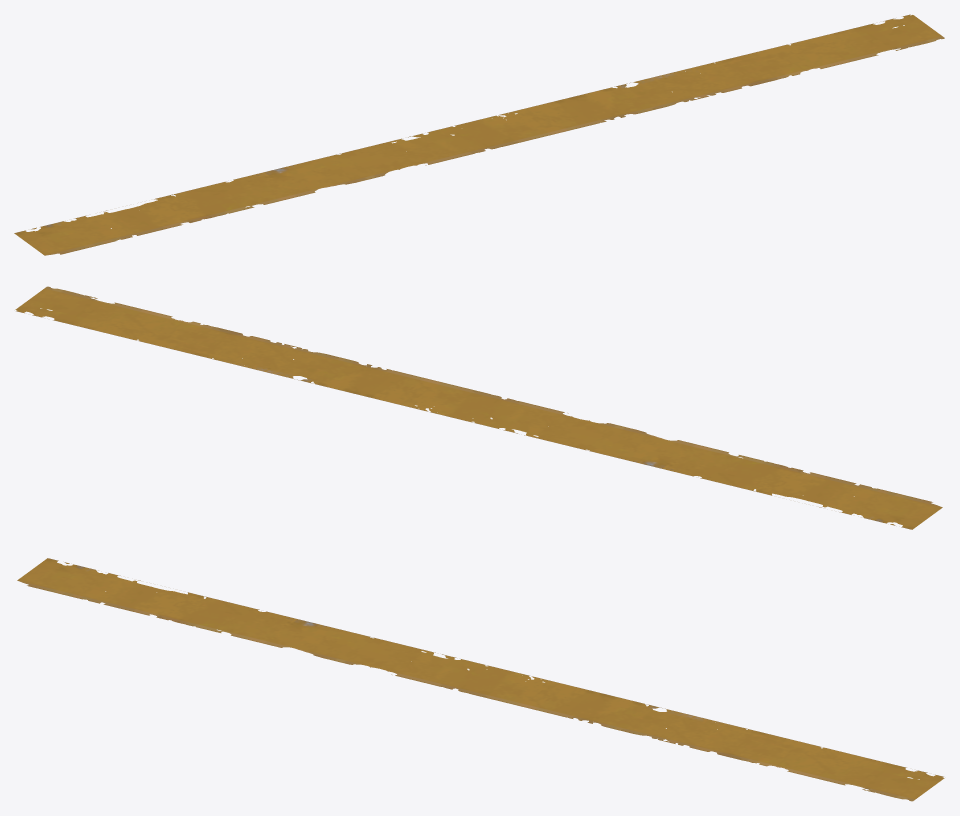
The model's file is SM_Stripe_Floor_01h.glb.
The picture shows the model from 3 angles, top to bottom: view 1: azimuth 30°, elevation 25°; view 2: azimuth 150°, elevation 25°; view 3: azimuth 330°, elevation 25°; orthographic projection.
Visible parts, largest first — view 1: SM_Stripe_Floor_01h; view 2: SM_Stripe_Floor_01h; view 3: SM_Stripe_Floor_01h.
Boxes of the visible parts, x1,y1,x2,y2 form: SM_Stripe_Floor_01h: (14, 14, 944, 255); SM_Stripe_Floor_01h: (15, 286, 942, 529); SM_Stripe_Floor_01h: (17, 558, 944, 801).
Bounding box in the file's own units: 1.5 × 9.92e-07 × 0.0976.
Materials: 1 (1 with a texture image).
